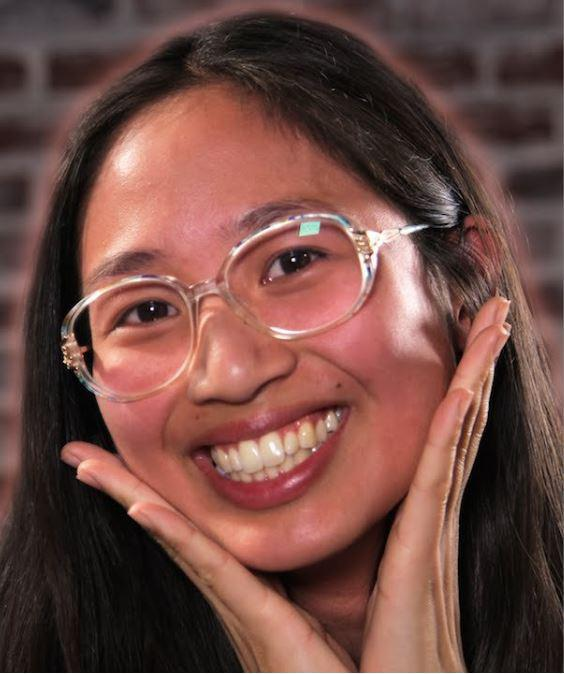Drunk: (93, 143, 413, 545)
